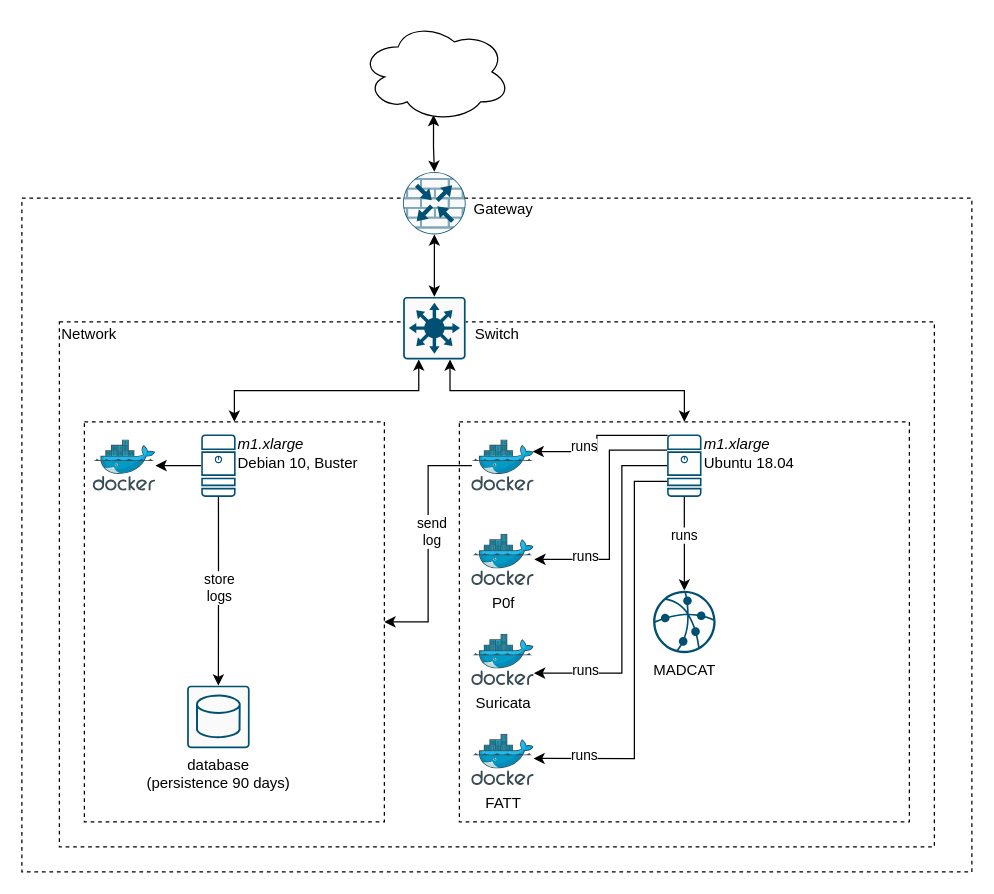
The diagram is 994 pixels wide and 894 high, and some of its shapes have lost their labels. Each missing label, with the centre of its shape:
"ELK" belongs at (x=124, y=465).
"Internet" belongs at (x=435, y=71).
"Logstash" belongs at (x=502, y=465).
